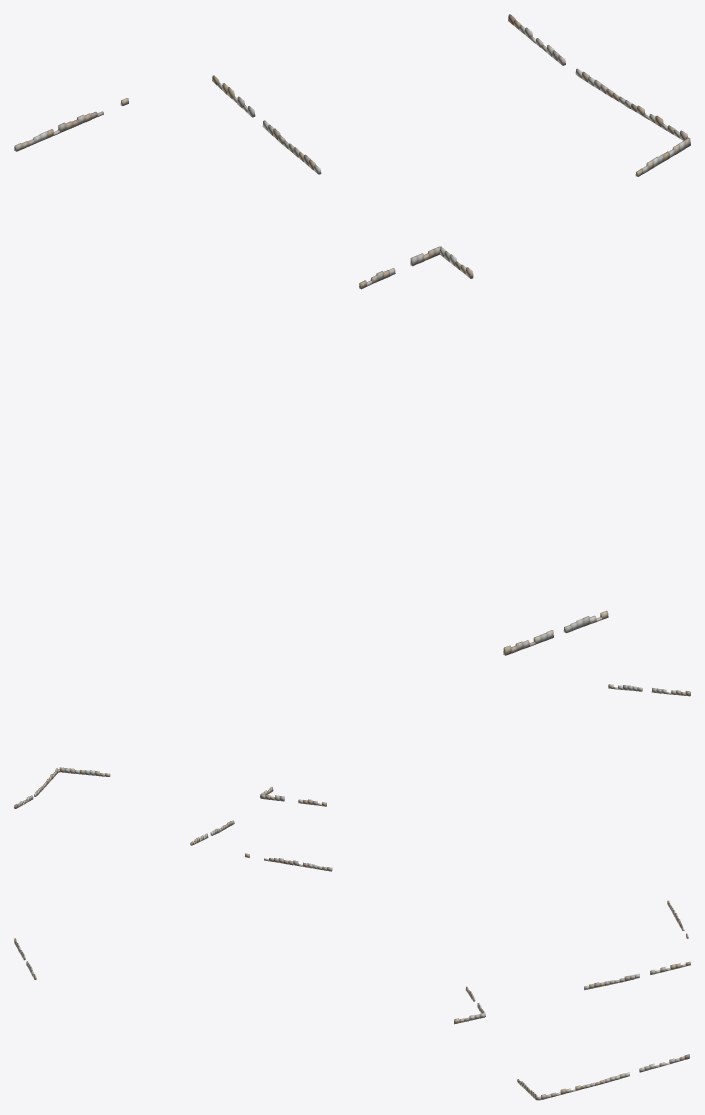
The model's file is farm_-4_13_far.glb.
3 views of the same model, one above another, from view 1: azimuth 30°, elevation 25°; view 2: azimuth 150°, elevation 25°; view 3: azimuth 270°, elevation 25° (orthographic). The views are drawn at different scales.
Visible parts, largest first — view 1: geometry_0; view 2: geometry_0; view 3: geometry_0.
Boxes of the visible parts, box(x1,y1,x2,y2) form: geometry_0: box(14, 14, 690, 655); geometry_0: box(14, 684, 690, 871); geometry_0: box(14, 900, 690, 1100).
Size of the model in its own units: 133 by 21.49 by 209.
